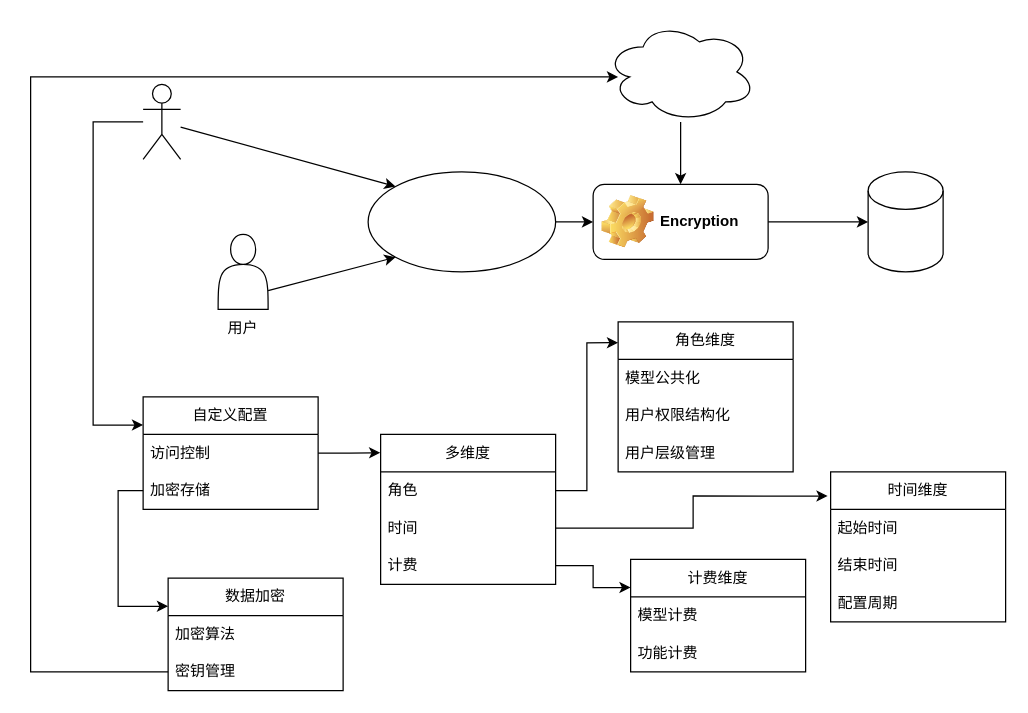
The diagram is 1028 pixels wide and 713 high, and some of its shapes have lost their labels. The shapes that lost their labels are listed below. From the top down, each one's centre as x and y in pixels, then its label:
At [680,71]: "Vault".
At [161,121]: "租户".
At [461,221]: "服务器".
At [905,221]: "DB".
